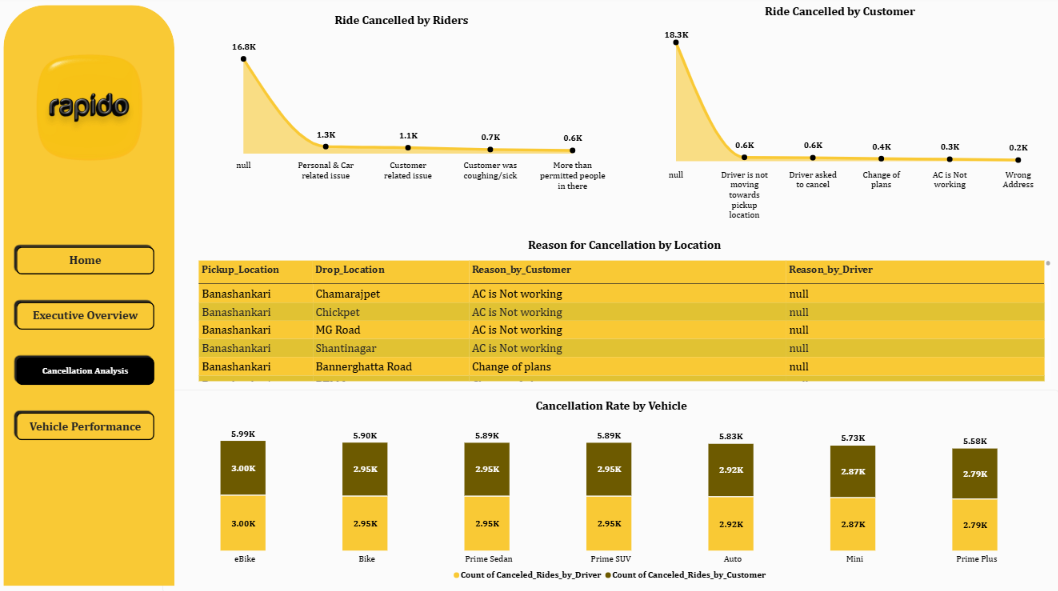

The page's visual inventory and layout, read from the dashboard file:
{"tool":"powerbi","page":{"name":"Cancellation Analysis","canvas":[1920,1080],"ordinal":2},"visuals":[{"type":"shape","box":[9,16.3,309.5,1051.4],"z":1000,"group":"g1"},{"type":"areaChart","title":"Ride Cancelled by Riders","fields":{"Category":["Rapido.Canceled_Rides_by_Driver"],"Y":["CountNonNull(Rapido.Booking_ID)"]},"box":[333,16.3,792.6,354.7],"z":1000},{"type":"areaChart","title":"Ride Cancelled by Customer","fields":{"Y":["CountNonNull(Rapido.Booking_ID)"],"Category":["Rapido.Canceled_Rides_by_Customer"]},"box":[1125.6,0,794.4,423.5],"z":2000},{"type":"ribbonChart","title":"Cancellation Rate by Vehicle","fields":{"Category":["Rapido.Vehicle_Type"],"Y":["CountNonNull(Rapido.Canceled_Rides_by_Driver)","CountNonNull(Rapido.Canceled_Rides_by_Customer)"]},"box":[296.8,713,1623.3,367.4],"z":3000},{"type":"image","box":[9,59.7,311.3,284.1],"z":4000,"group":"g1"},{"type":"tableEx","title":"Reason for Cancellation by Location","fields":{"Values":["Rapido.Pickup_Location","Rapido.Drop_Location","Rapido.Canceled_Rides_by_Customer1","Rapido.Canceled_Rides_by_Driver"]},"box":[345.6,423.5,1574.4,289.5],"z":4000},{"type":"group","id":"g1","title":"Group 1","box":[9,16.3,311.3,1051.4],"z":4001},{"type":"pageNavigator","box":[27,448.3,260.6,360.1],"z":5000,"group":"g1"}]}

Visuals, with their boxes in screenshot pixels (x1, y1, x2, y2), scaled from the page's 1920x1080 canvas onto the 1058x591 screenshot:
shape: left=5, top=9, right=176, bottom=584
"Ride Cancelled by Riders" areaChart: left=183, top=9, right=620, bottom=203
"Ride Cancelled by Customer" areaChart: left=620, top=0, right=1057, bottom=232
"Cancellation Rate by Vehicle" ribbonChart: left=164, top=390, right=1057, bottom=590
image: left=5, top=33, right=176, bottom=188
"Reason for Cancellation by Location" tableEx: left=190, top=232, right=1057, bottom=390
"Group 1" group: left=5, top=9, right=176, bottom=584
pageNavigator: left=15, top=245, right=158, bottom=442
